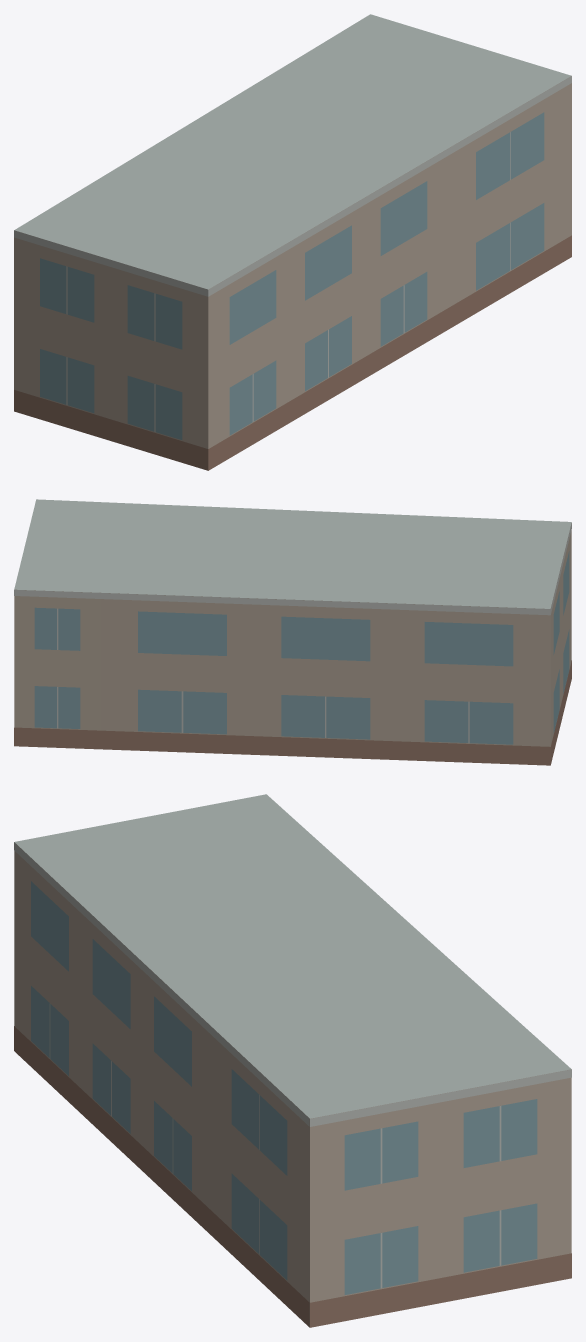
File: survey-upis-32705147.glb
3 renders of one model, top to bottom at view 1: azimuth 30°, elevation 25°; view 2: azimuth 150°, elevation 25°; view 3: azimuth 270°, elevation 25°, orthographic. The views are drawn at different scales.
Visible parts, largest first — view 1: survey-upis-32705147.tmp; view 2: survey-upis-32705147.tmp; view 3: survey-upis-32705147.tmp.
Boxes of the visible parts, <box> form: survey-upis-32705147.tmp: <box>14,14,571,470</box>; survey-upis-32705147.tmp: <box>14,499,571,765</box>; survey-upis-32705147.tmp: <box>14,794,571,1327</box>.
Bounding box in the file's own units: 20.32 × 6.1 × 14.76.
